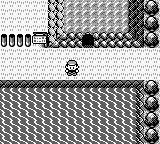captura: (0, 88, 136, 144)
leer: (33, 32, 48, 47)
main: (65, 61, 79, 75)
mo: (1, 80, 142, 143)
no-caminable: (49, 0, 145, 48), (144, 81, 159, 143), (145, 0, 159, 48), (0, 34, 31, 47)
puerta: (82, 34, 94, 47)
